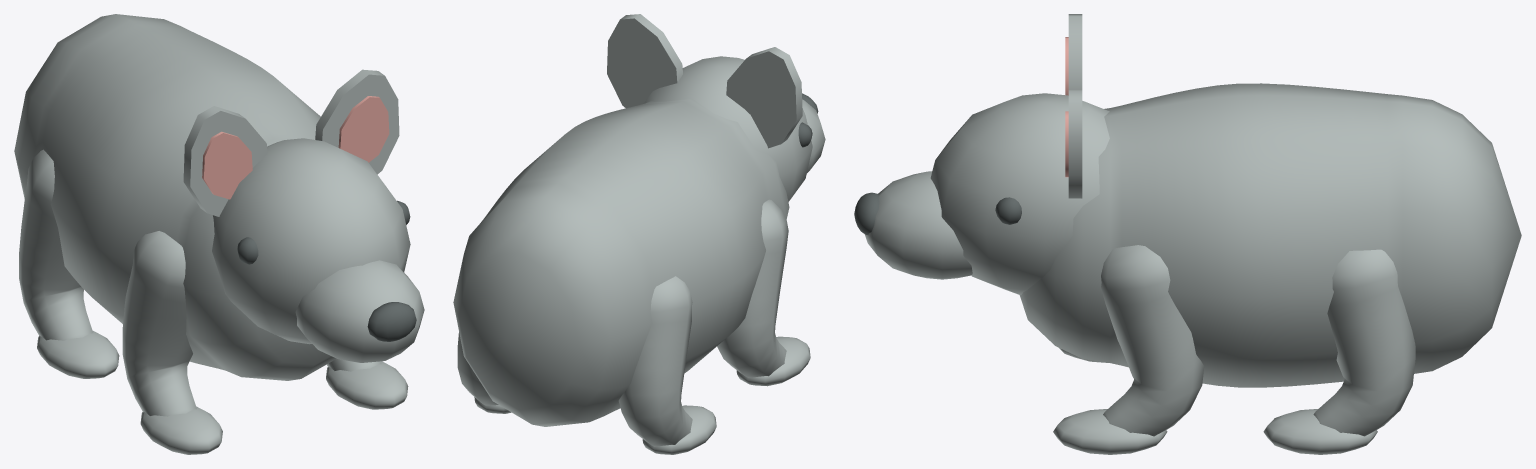
The model's file is outback-and-australian-wildlife-wombat-a3039c1b__5909.glb.
The picture shows the model from 3 angles, left to right: view 1: azimuth 30°, elevation 25°; view 2: azimuth 150°, elevation 25°; view 3: azimuth 270°, elevation 25°; orthographic projection. The views are drawn at different scales.
Parts seen in each view (by area): view 1: wombat; view 2: wombat; view 3: wombat.
Boxes of the visible parts, x1=… form: wombat: x1=14, y1=14, x2=424, y2=454; wombat: x1=453, y1=14, x2=825, y2=454; wombat: x1=854, y1=14, x2=1521, y2=454.
Size of the model in its own units: 0.54 by 0.7096 by 1.23.
